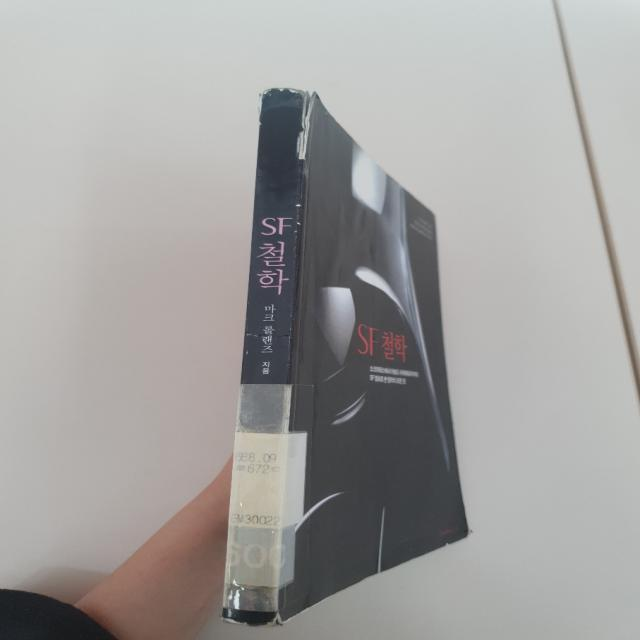Ripped: (277, 80, 320, 172), (254, 599, 297, 632), (252, 80, 277, 131)
Wornout: (216, 608, 254, 630), (290, 202, 306, 239)
